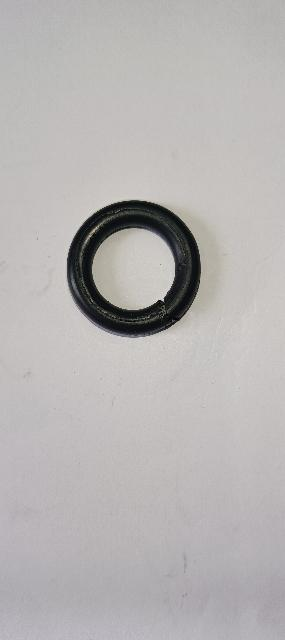crack: (154, 292, 184, 332)
